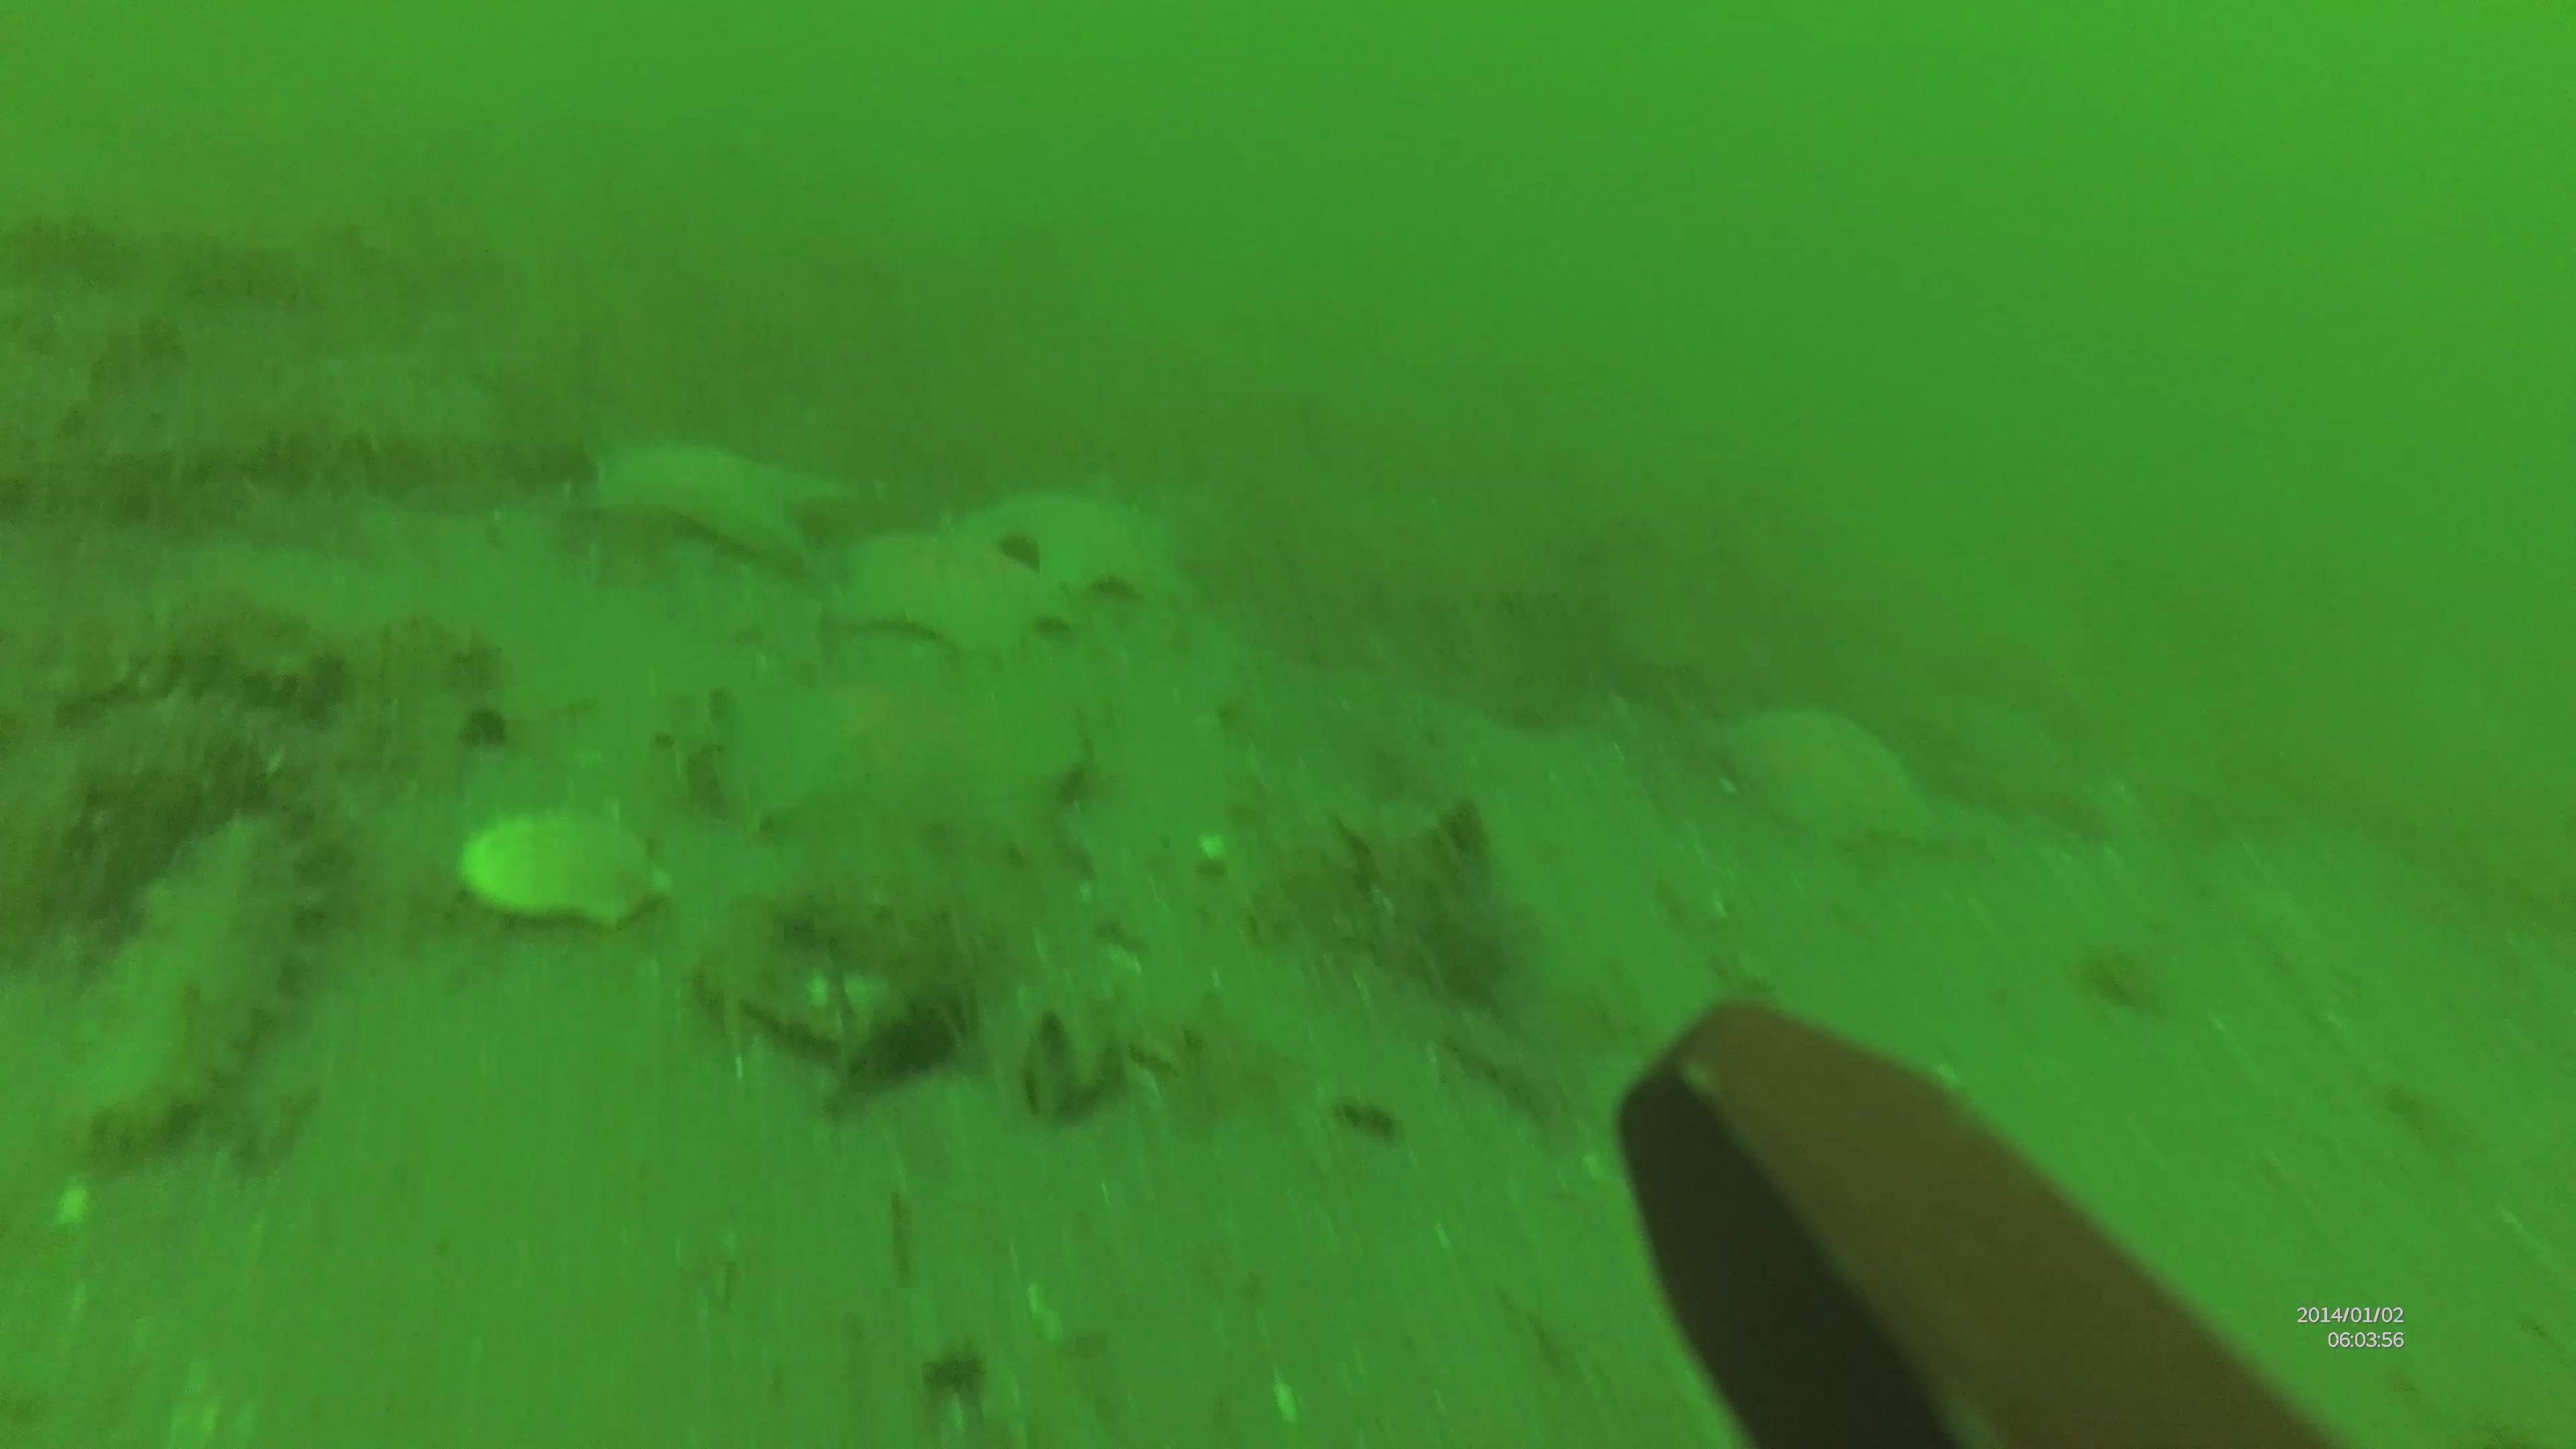holothurian: (51, 798, 336, 1168)
scallop: (460, 805, 678, 927)
starfish: (580, 437, 860, 566), (1716, 709, 1941, 858), (821, 531, 1069, 656), (955, 488, 1205, 605)
